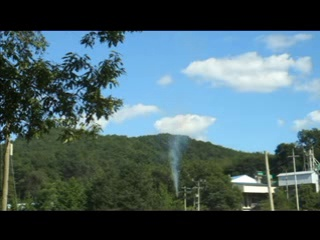smoke: (146, 132, 182, 199)
